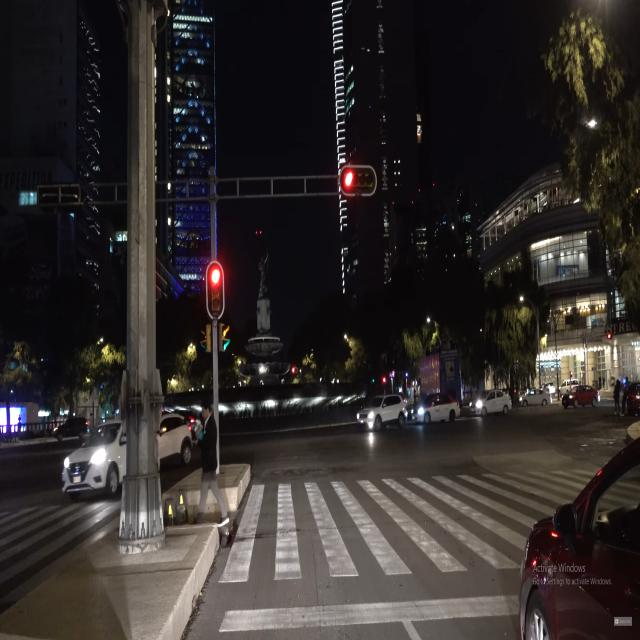headlights: (56, 446, 115, 480)
